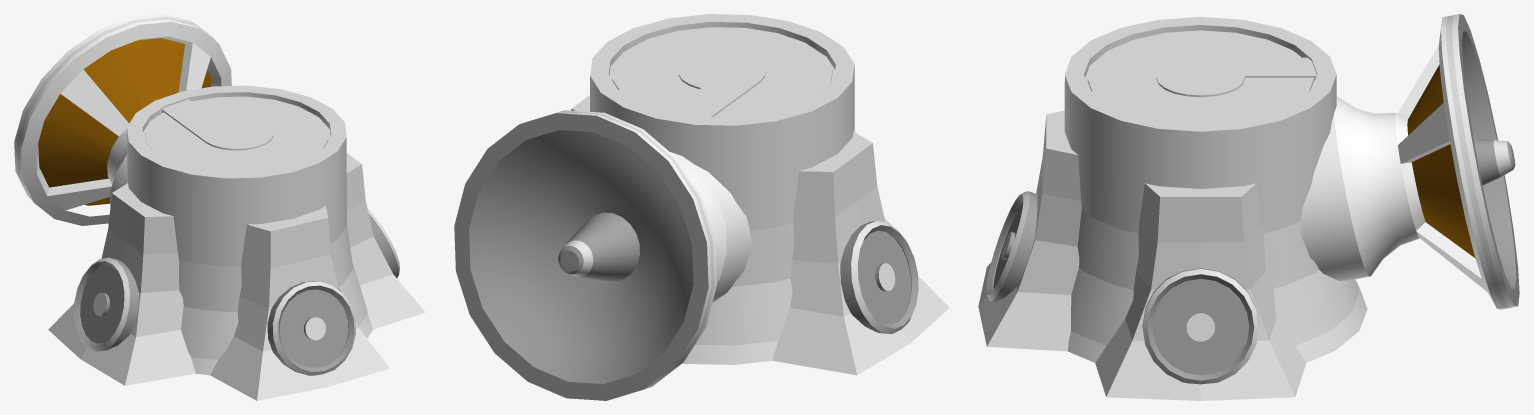
File: SM_Sonic_Wave.fbx
The picture shows the model from 3 angles, left to right: view 1: azimuth 30°, elevation 25°; view 2: azimuth 150°, elevation 25°; view 3: azimuth 270°, elevation 25°; orthographic projection. The views are drawn at different scales.
Parts seen in each view (by area): view 1: SM_Sonic_Wave1_Side_Speaker_pCube2, CD; view 2: SM_Sonic_Wave1_Side_Speaker_pCube2, CD; view 3: SM_Sonic_Wave1_Side_Speaker_pCube2, CD.
Part boxes in pixels (x1,y1,x2,y2): SM_Sonic_Wave1_Side_Speaker_pCube2: (14,14,425,400); CD: (145,96,328,171); SM_Sonic_Wave1_Side_Speaker_pCube2: (454,14,949,400); CD: (612,27,832,117); SM_Sonic_Wave1_Side_Speaker_pCube2: (978,14,1519,400); CD: (1087,30,1313,123).
Bounding box in the file's own units: 58.9 × 40.9 × 71.69.
